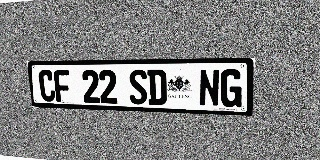2: (81, 70, 100, 103), (99, 70, 117, 104)
C: (38, 70, 56, 102)
D: (147, 69, 167, 105)
F: (53, 70, 71, 102)
G: (220, 69, 243, 108)
N: (199, 69, 220, 107)
S: (128, 70, 148, 105)
